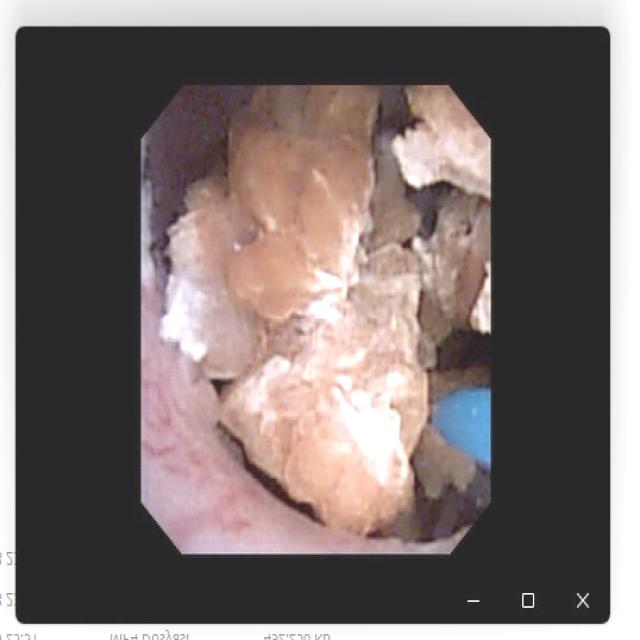fiber: (439, 391, 489, 459)
stone: (175, 91, 487, 537)
